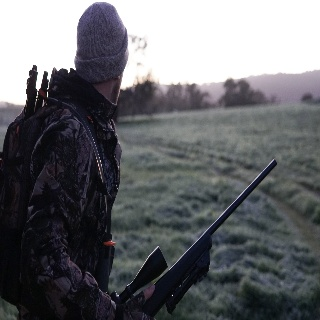rifle: (110, 157, 279, 320)
